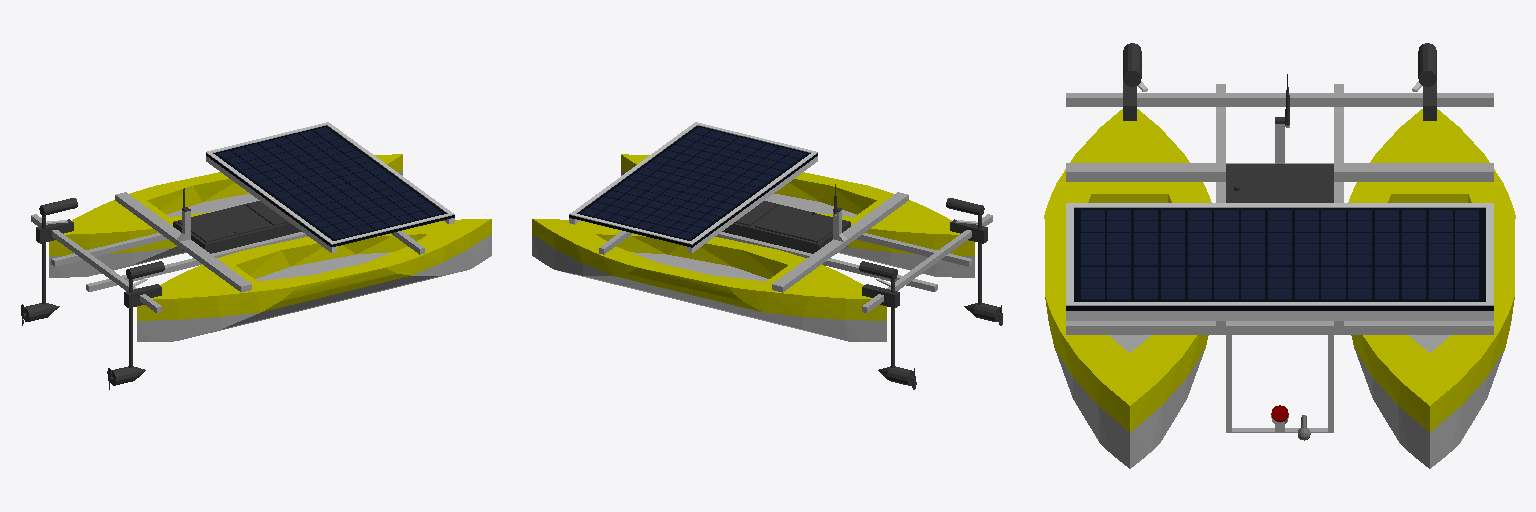
URDF robot description (squirtle):
<?xml version="1.0"?>

<robot name="squirtle">
	
	<!-- <link name="base_station">
		<visual>
			<origin xyz="74 137 5" rpy="0 0 0" />
			<geometry>
				<box size="0.001 0.001 0.001" />
			</geometry>
		</visual>
	</link> -->
	
	<!-- base_footprint is a fictitious link(frame) that is on the ground right below base_link origin, navigation stack depends on this frame -->
	<link name="base_footprint">
		<visual>
			<origin xyz="0 0 0" rpy="0 0 0" />
			<geometry>
				<box size="0.001 0.001 0.001" />
			</geometry>
		</visual>
	</link>
	
	<!-- Links and Joints (i.e., the robot) -->
	<link name="base_link">
		<visual>
			<origin xyz="0 0 0" rpy="0 0 0" />
			<geometry>
				<mesh filename="package://squirtle_description/meshes/squirtle.dae"/>
			</geometry>
		</visual>
	</link>
	
	<joint name="base_footprint_base_link_joint" type="fixed">
		<parent link="base_footprint"/>
		<child link="base_link" />
		<origin xyz="0 0 0" rpy="0 0 0" />
		<axis xyz="0 0 1" />
	</joint>
	
 	<link name="left_motor">
		<visual>
			<origin xyz="0 0 0" rpy="0 0 0" />
			<geometry>
				<mesh filename="package://squirtle_description/meshes/left_motor.dae"/>
			</geometry>
		</visual>
	</link>
	
	<!-- left motor joint -->
	<joint name="left_motor_joint" type="continuous">
		<parent link="base_link"/>
		<child link="left_motor"/>
		<origin xyz="-1 0.56 0.31" rpy="0 0 0" />
		<axis xyz="0 0 1" />
	</joint>
        
	<link name="right_motor">
		<visual>
			<origin xyz="0 0 0" rpy="0 0 0" />
			<geometry>
				<mesh filename="package://squirtle_description/meshes/right_motor.dae"/>
			</geometry>
			
		</visual>
	</link>
	
	<!-- right motor joint -->
	<joint name="right_motor_joint" type="continuous">
		<parent link="base_link"/>
		<child link="right_motor"/>
		<origin xyz="-1 -0.56 0.31" rpy="0 0 0" />
		<axis xyz="0 0 1" />
	</joint>
	
	<!-- sonar -->
	<link name="sonar">
		<visual>
			<origin xyz="0 0 0" rpy="0 0 0" />
			<geometry>
				<box size="0.001 0.001 0.001" />
			</geometry>
		</visual>
	</link>
	
	<joint name="sonar_joint" type="fixed">
		<parent link="base_link"/>
		<child link="sonar"/>
		<origin xyz="1.01175 0.0 -0.12125" rpy="0.7853 0 1.57079" />
		<axis xyz="0 0 1" />
	</joint>
	
	<link name="cyclops">
		<visual>
			<origin xyz="0 0 0" rpy="0 0 0" />
			<geometry>
				<box size="0.001 0.001 0.001" />
			</geometry>
		</visual>
	</link>
	
	<!-- cyclops chemical sensor joint -->
	<joint name="cyclops_joint" type="fixed">
		<parent link="base_link"/>
		<child link="cyclops"/>
		<origin xyz="1.065 0.09 -0.175" rpy="0 0 0" />
		<axis xyz="0 0 1" />
	</joint>

	<!-- <link name="gps">
		<visual>
			<origin xyz="0 0 0" rpy="0 0 0" />
			<geometry>
				<mesh filename="package://squirtle_description/meshes/gps_antenna.dae"/>
			</geometry>
		</visual>
	</link>
	
	<joint name="gps_joint" type="fixed">
		<parent link="base_link"/>
		<child link="gps"/>
		<origin xyz="-0.24 -0.2 0.25" rpy="0 0 0" />
		<axis xyz="0 0 1" />
	</joint> -->
	
	<link name="imu">
		<visual>
			<origin xyz="0 0 0" rpy="0 0 0" />
			<geometry>
				<box size="0.001 0.001 0.001" />
			</geometry>
		</visual>
	</link>
	
	<!-- imu joint -->
	<joint name="imu_joint" type="fixed">
		<parent link="base_link"/>
		<child link="imu"/>
		<origin xyz="-0.50 0.0 0.25" rpy="0 0 0" />
		<axis xyz="0 0 1" />
	</joint>
        
</robot>

--- Render facts (derived) ---
Views: 3 orthographic renders of the robot side by side, from view 1: azimuth 30°, elevation 25°; view 2: azimuth 150°, elevation 25°; view 3: azimuth 270°, elevation 25°.
Model squirtle with 7 links and 6 joints (2 continuous, 4 fixed), rooted at base_footprint, posed every joint at zero.
Links seen in each view (by area): view 1: base_link, left_motor, right_motor; view 2: base_link, right_motor, left_motor; view 3: base_link, left_motor, right_motor.
Link boxes in pixels (x1,y1,x2,y2): base_link: (31,122,491,341); left_motor: (21,198,77,325); right_motor: (107,261,164,389); base_link: (532,122,992,341); right_motor: (946,198,1002,325); left_motor: (859,261,916,389); base_link: (1044,74,1515,468); left_motor: (1412,43,1436,91); right_motor: (1123,43,1147,91).
Bounding box of the posed robot: 2.85 × 1.79 × 1.04 m (x, y, z).
3 mesh visuals loaded from 3 distinct referenced files (3 Collada DAE).
